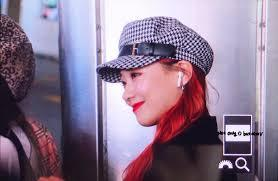earphone: (175, 69, 183, 89)
